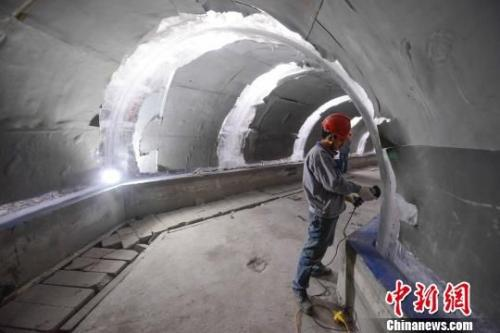helmet: (319, 108, 355, 152)
